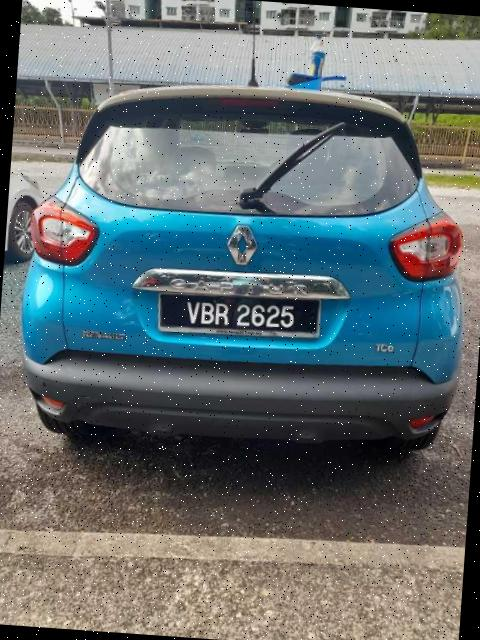License_Plate: (156, 288, 323, 343)
car: (12, 69, 480, 466)
